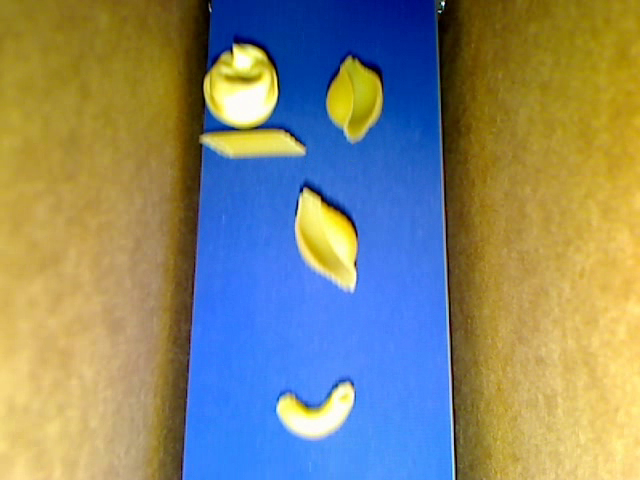elbow: (275, 380, 355, 441)
penne: (199, 128, 307, 158)
shell: (294, 187, 357, 292), (323, 54, 382, 144)
tortellini: (203, 43, 277, 128)
